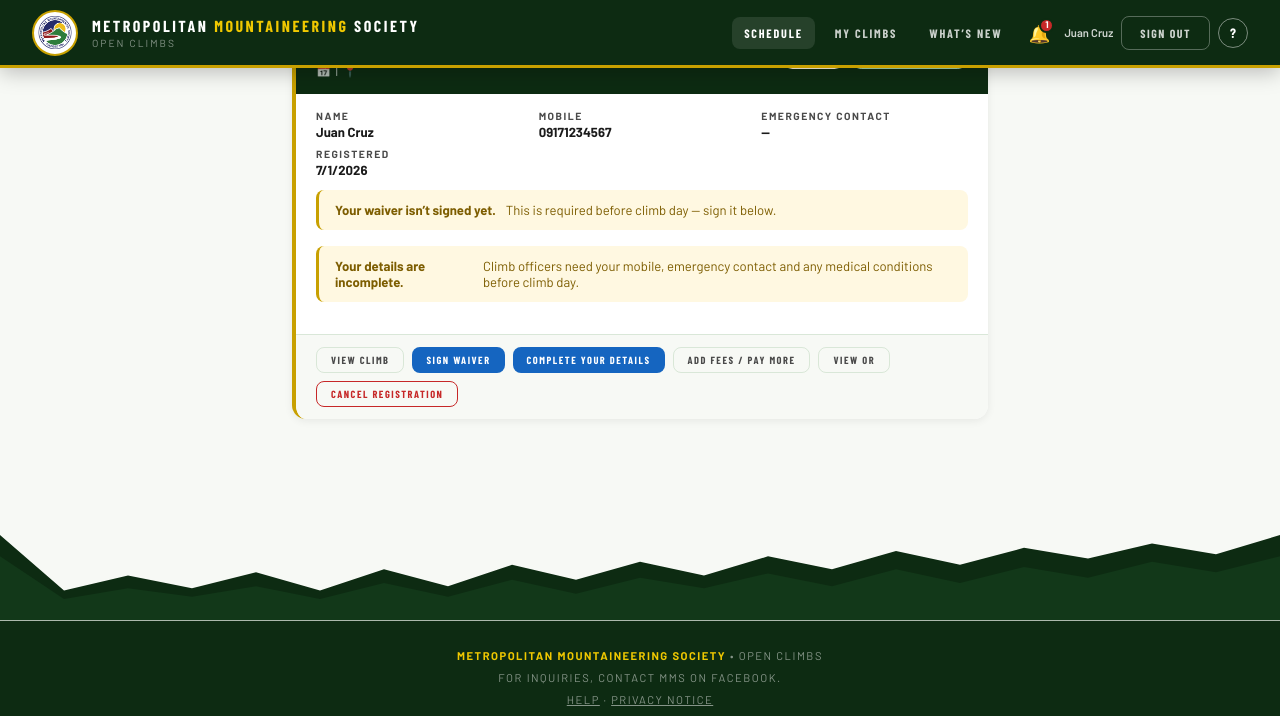
MyRegistrations page › shows the Official Receipt with fee breakdown and verification details
(page scrolled)
Click the button "View OR".
click(854, 360)  # box [818,347,890,373]
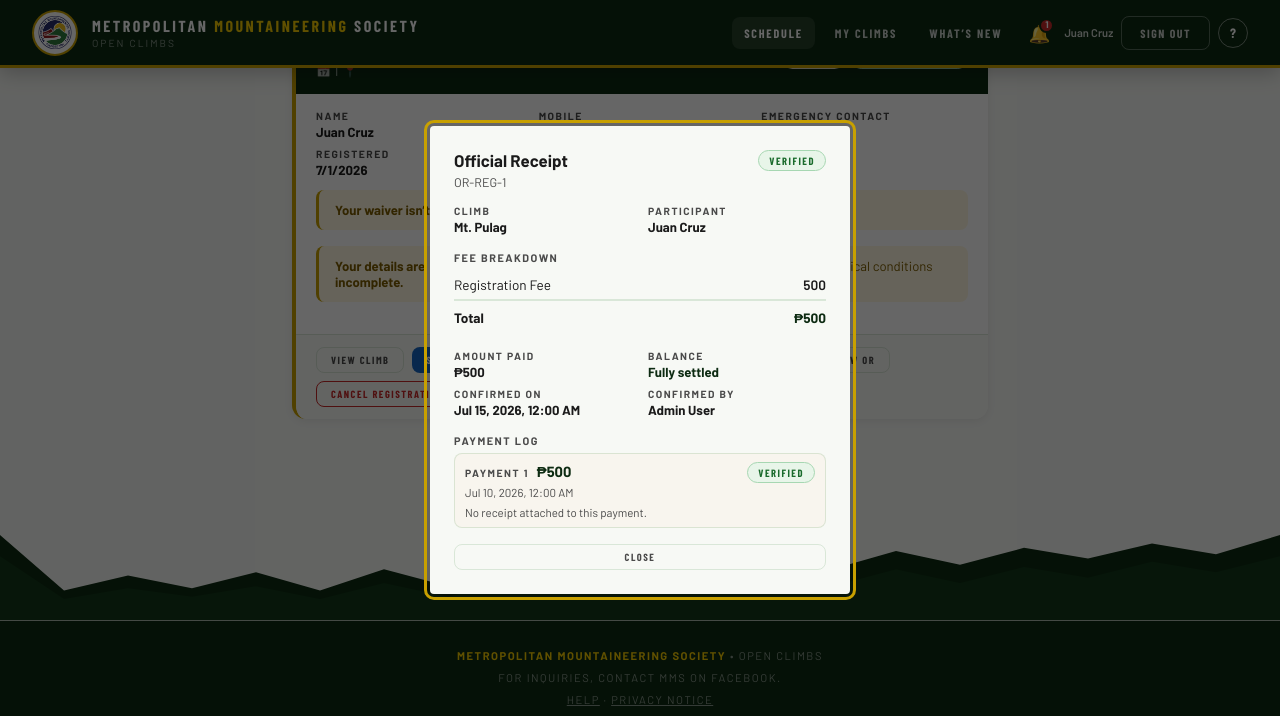
Expected: the heading "Official Receipt" is shown, [454,150,568,170]
Expected: the text "Admin User" is shown, [648,402,715,418]
